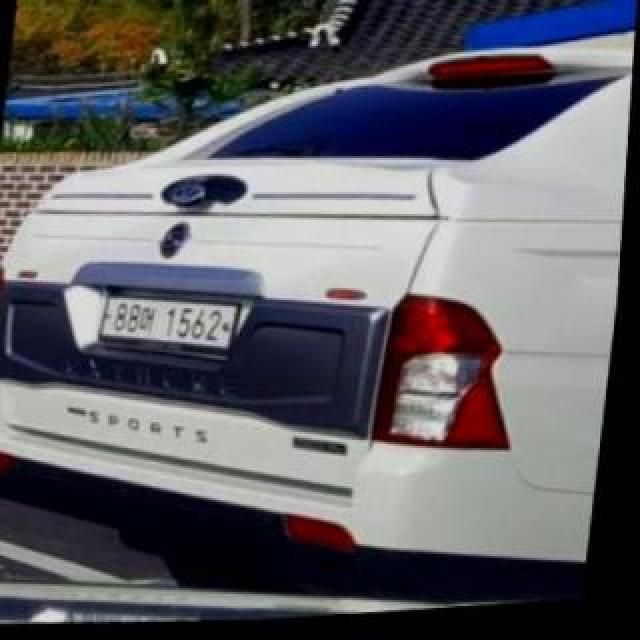car: (4, 36, 640, 639)
illegal_plate: (102, 290, 234, 353)
